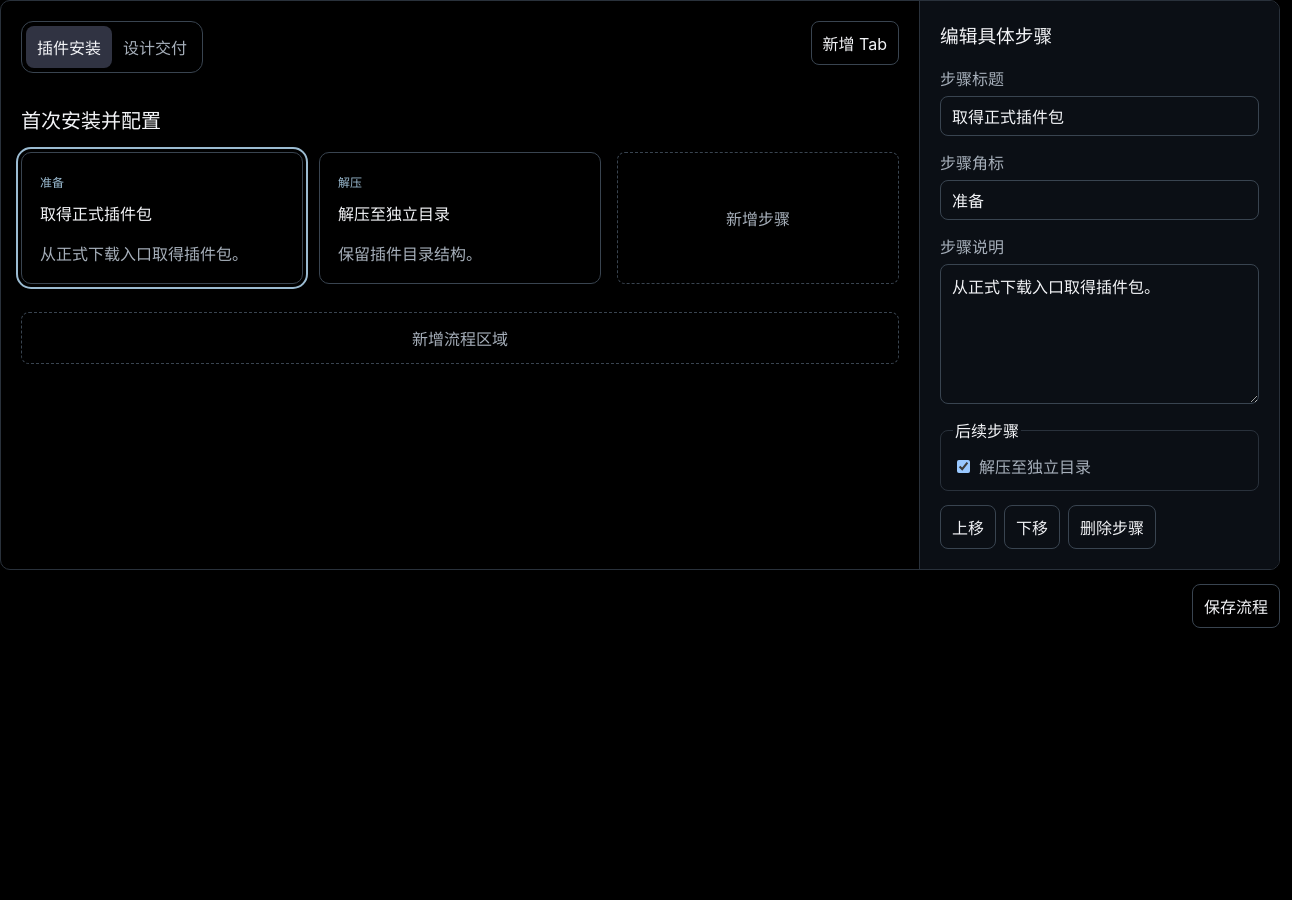
Test case: WorkflowEditor › updates the canvas live and switches the inspector by selected hierarchy
Replace the text in the field labelled "步骤标题" with "下载正式插件包". click: (1100, 116)
box: [940,96,1259,136]
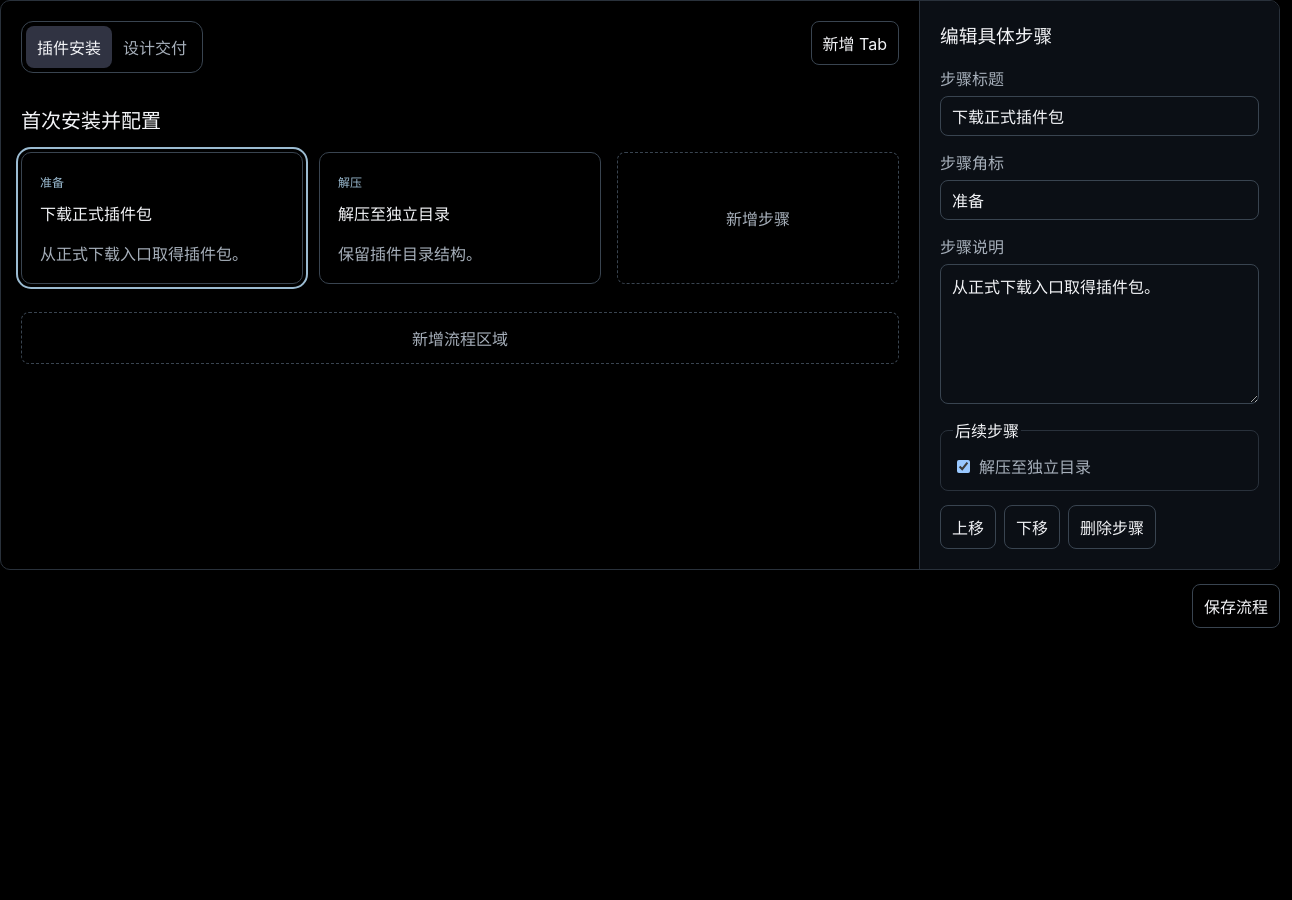
Expected: the button "准备 下载正式插件包 从正式下载入口取得插件包。" is shown, [21,152,303,284]
Click the button "首次安装并配置". click: click(91, 120)
box: [21,101,161,138]
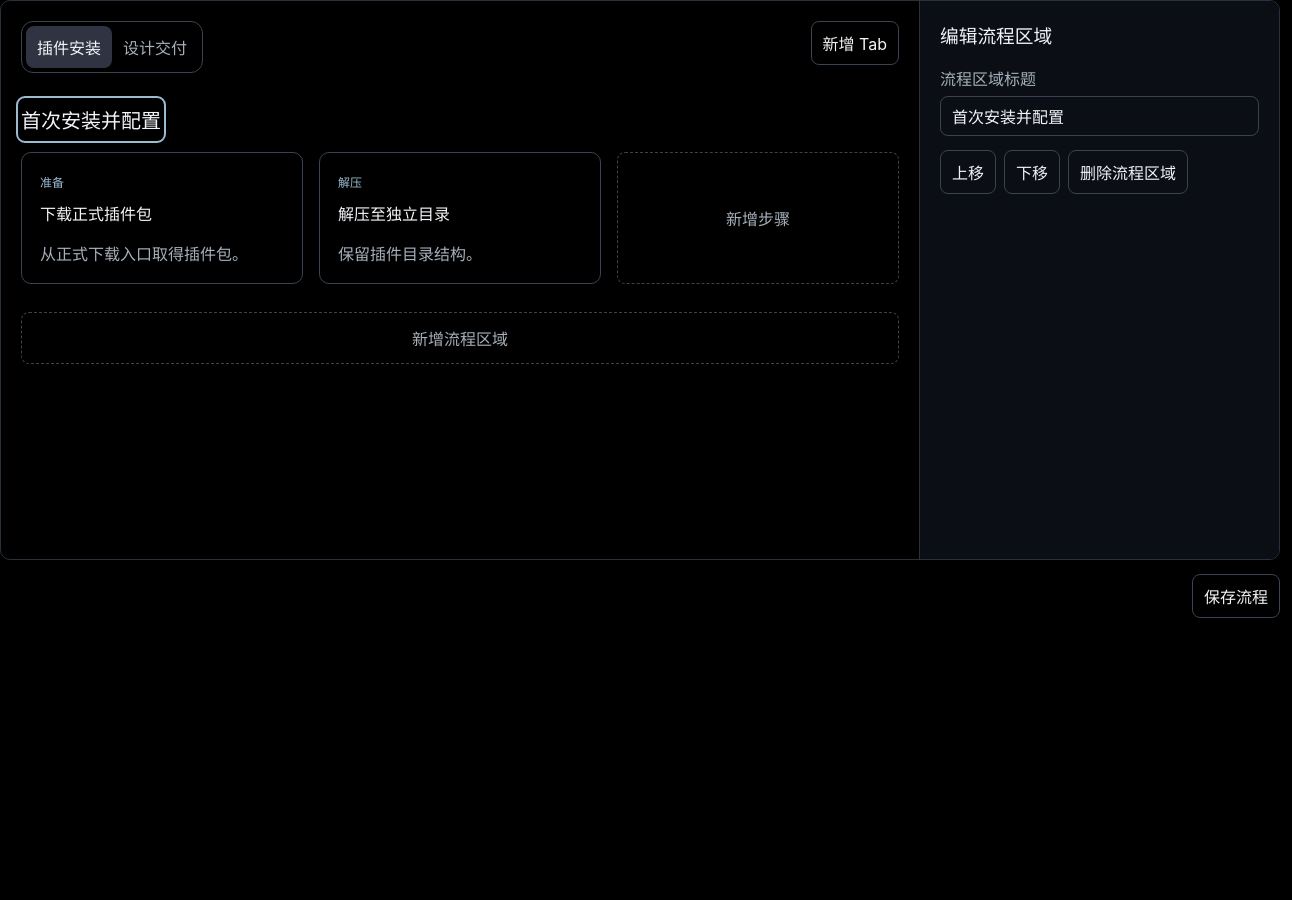
Expected: the heading "编辑流程区域" is shown, [940,25,1052,48]
Replace the text in the field labelled "流程区域标题" with "首次安装". click: (1100, 116)
box: [940,96,1259,136]
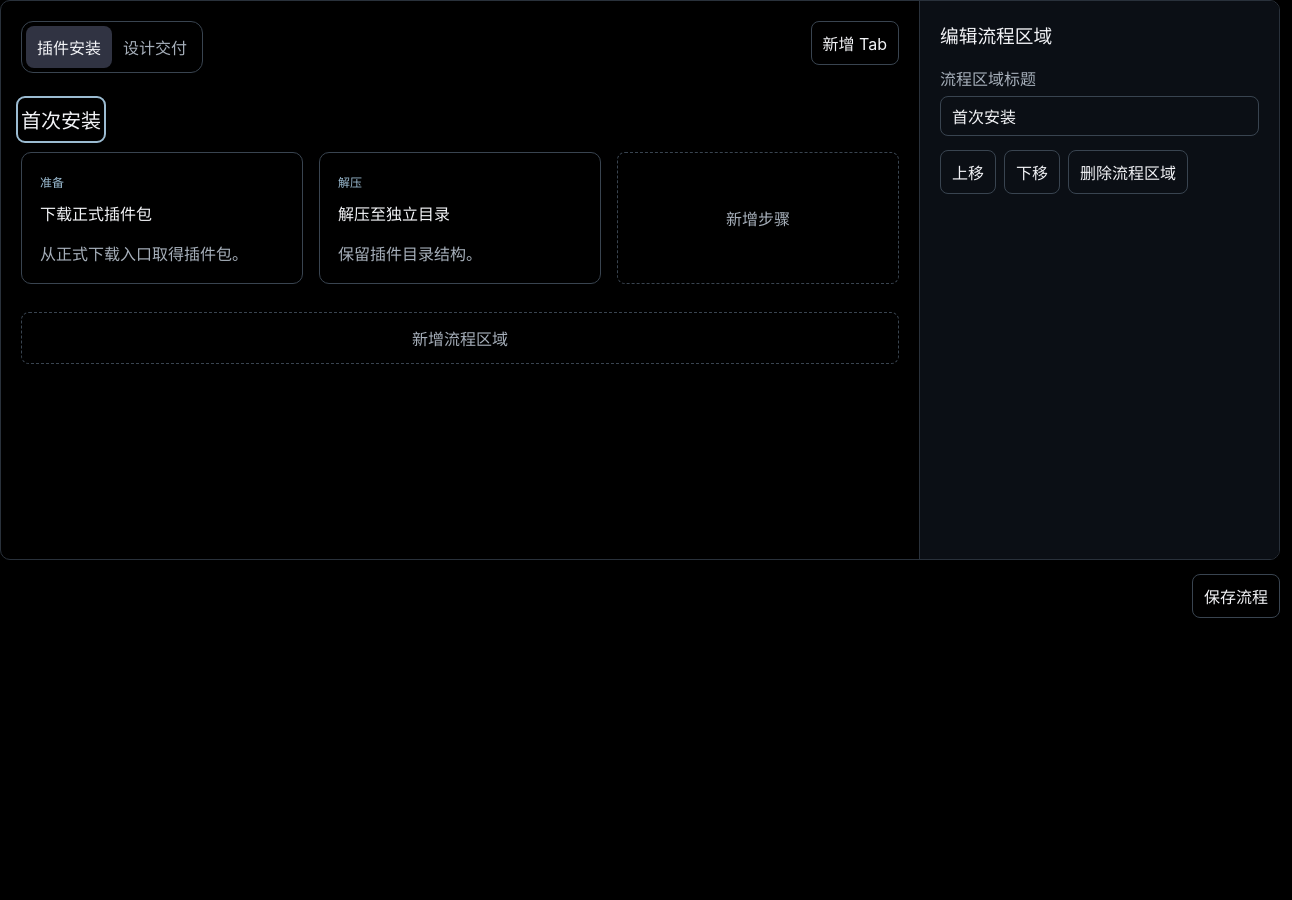
Expected: the button "首次安装" is shown, [21,101,101,138]
Click the tab "设计交付". click: click(155, 47)
box: [112,26,198,68]
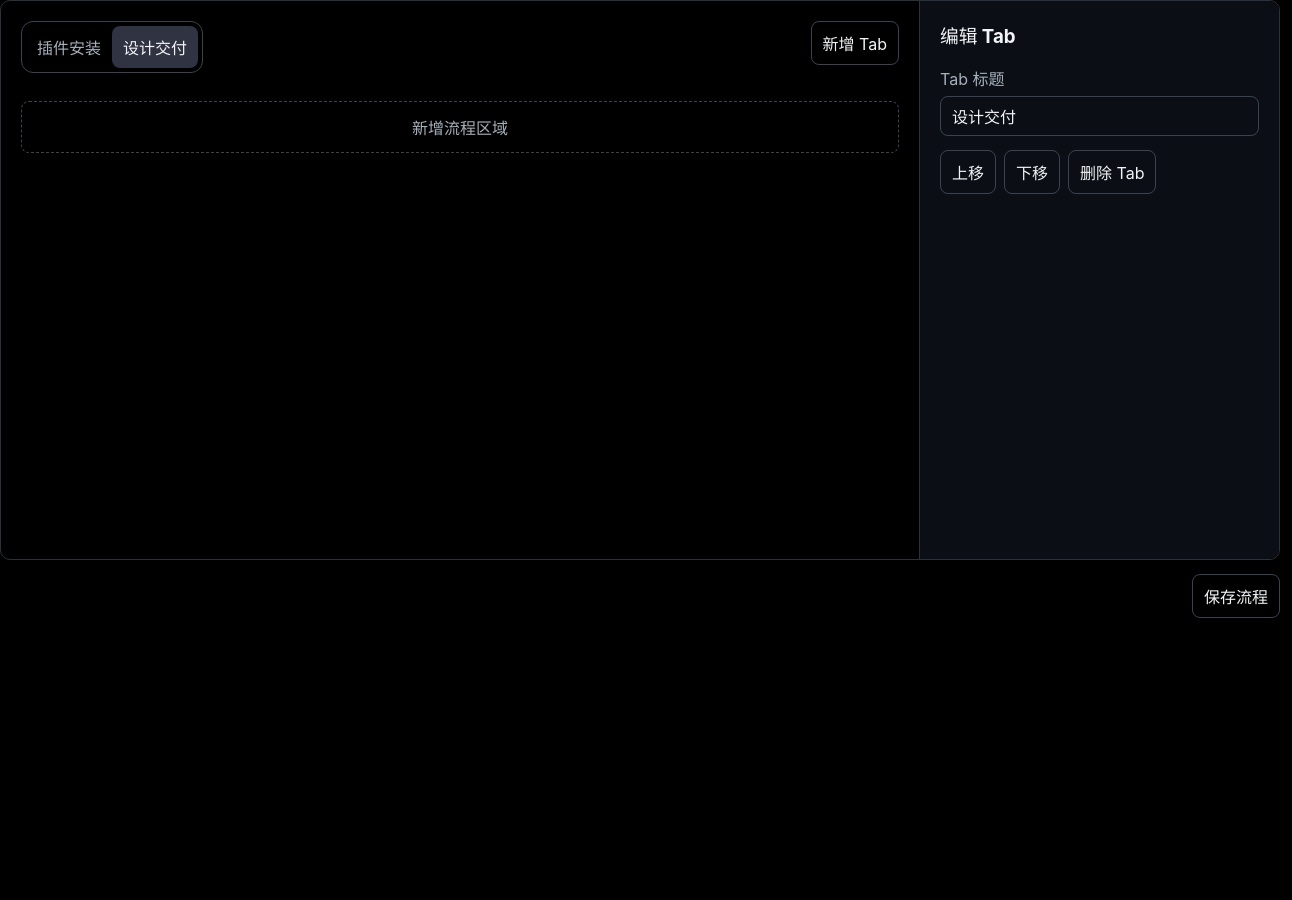
Expected: the heading "编辑 Tab" is shown, [940,25,1016,48]
Expected: the field labelled "Tab 标题" holds "设计交付", [940,96,1259,136]
